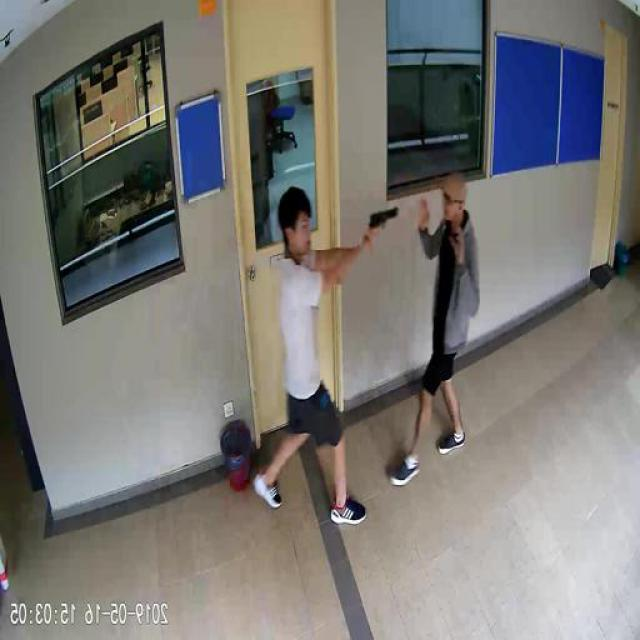Gun: (370, 204, 399, 246)
